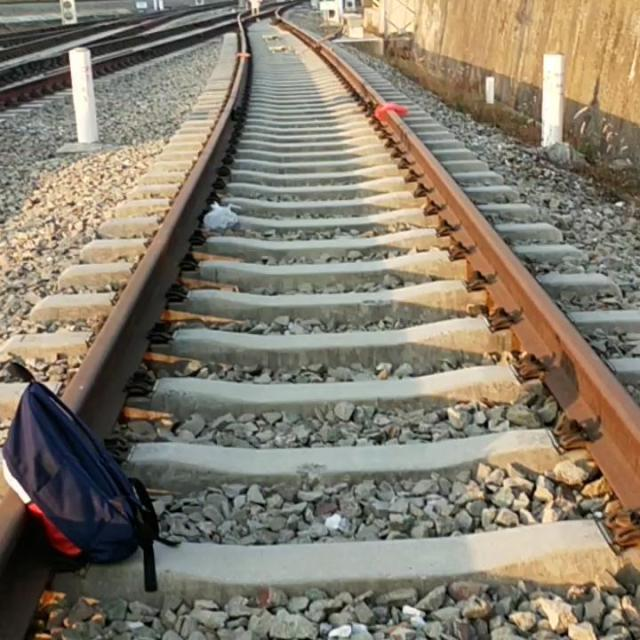danger: (0, 346, 179, 581), (367, 97, 410, 122)
rail: (379, 113, 640, 511), (64, 57, 248, 437), (0, 0, 239, 63), (92, 11, 276, 78), (275, 10, 386, 111), (0, 491, 53, 640), (85, 12, 239, 57), (0, 70, 72, 111), (0, 48, 70, 87), (237, 10, 250, 53), (259, 0, 300, 12), (277, 1, 309, 16)
